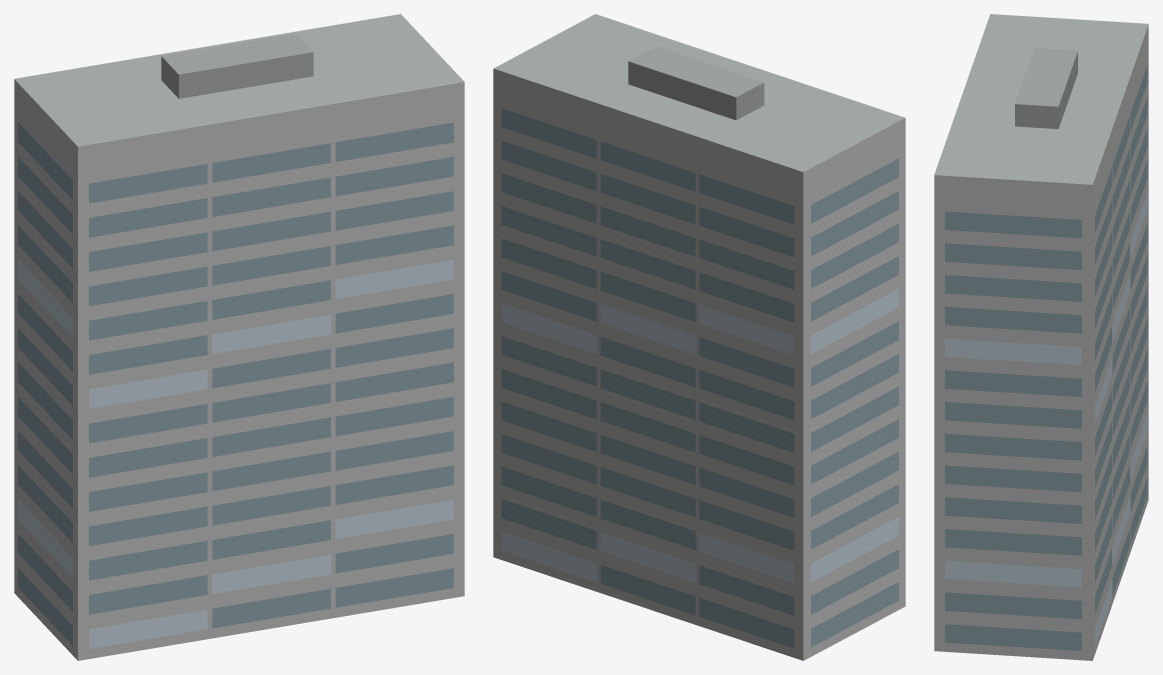
The model's file is apt-a10024603.glb.
3 renders of one model, left to right at view 1: azimuth 30°, elevation 25°; view 2: azimuth 150°, elevation 25°; view 3: azimuth 270°, elevation 25°, orthographic. The views are drawn at different scales.
Visible parts, largest first — view 1: apt-a10024603; view 2: apt-a10024603; view 3: apt-a10024603.
Boxes of the visible parts, x1=… form: apt-a10024603: x1=14, y1=14, x2=464, y2=660; apt-a10024603: x1=493, y1=14, x2=905, y2=660; apt-a10024603: x1=934, y1=14, x2=1148, y2=660.
Bounding box in the file's own units: 30.88 × 42 × 16.39.
